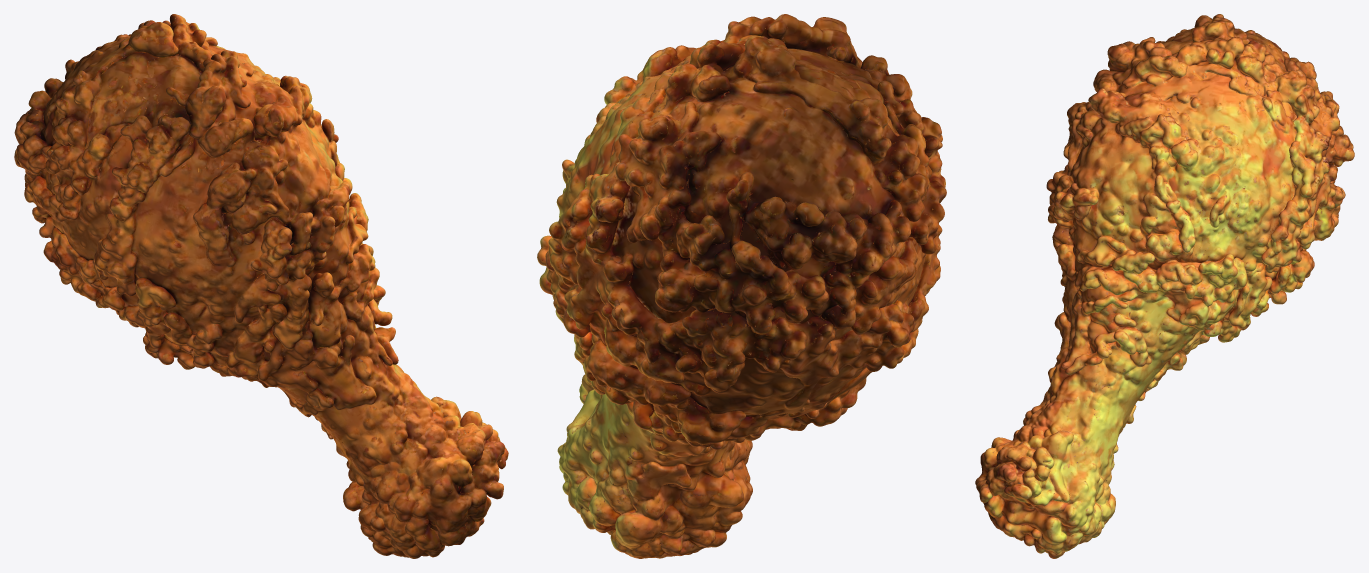
The model's file is friend_checken.glb.
3 renders of one model, left to right at view 1: azimuth 30°, elevation 25°; view 2: azimuth 150°, elevation 25°; view 3: azimuth 270°, elevation 25°, orthographic. The views are drawn at different scales.
Parts seen in each view (by area): view 1: fried; view 2: fried; view 3: fried.
Part boxes in pixels (x1=…): fried: x1=14, y1=14, x2=508, y2=558; fried: x1=537, y1=14, x2=946, y2=558; fried: x1=975, y1=14, x2=1354, y2=558.
Bounding box in the file's own units: 1.9 × 2.51 × 1.91.
1 material, 1 textured.
